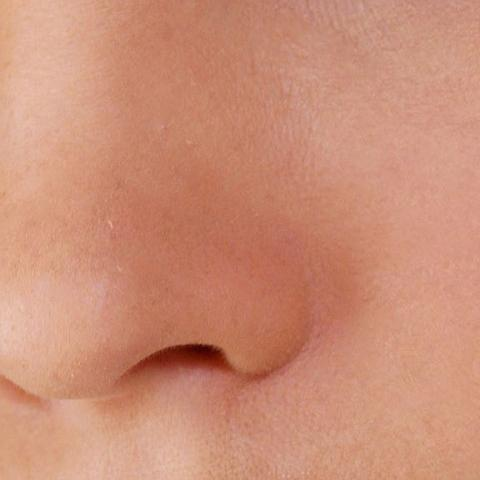opened: (0, 0, 480, 133)
